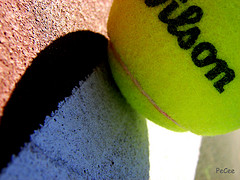tennis ball: (105, 1, 240, 137)
